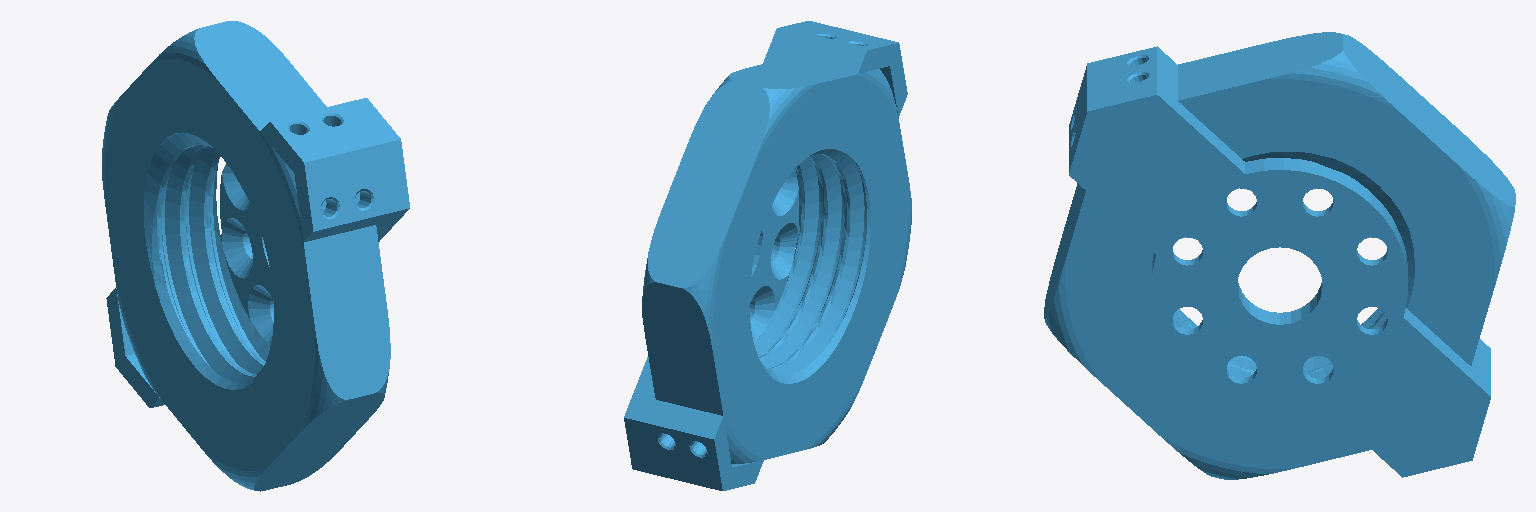
The robot description file, URDF, robot "panda_hebi":
<?xml version="1.0" encoding="utf-8" ?>
<robot name="panda_hebi">
	<!-- Panda link 0 -->
	<link name="panda_link0">
		<visual>
			<geometry>
				<mesh filename="franka/Franka_Link0_assy OBJ/Franka_Link0_assy.obj" />
			</geometry>
		</visual>
		<inertial>
			<origin rpy="0 0 0" xyz="0 0 0" />
			<mass value="2.9411" />
			<inertia ixx="0.00315" ixy="0.0" ixz="0.0" iyy="0.00388" iyz="0.0" izz="0.004285" />
		</inertial>
	</link>
	<!-- Joint 1 from link 0 to 1 -->
	<joint name="panda_joint1" type="revolute">
		<origin rpy="0 0 0" xyz="0 0 0.333" />
		<parent link="panda_link0" />
		<child link="panda_link1" />
		<axis xyz="0 0 1" />
		<limit effort="87" lower="-2.8973" upper="2.8973" velocity="2.1750" />
		<dynamics damping="1.0" />
	</joint>
	<!-- Panda link 1 -->
	<link name="panda_link1">
		<visual>
			<geometry>
				<mesh filename="franka/Franka_Link1_assy OBJ/Franka_Link1_assy.obj" />
			</geometry>
		</visual>
		<inertial>
			<origin rpy="0 0 0" xyz="0.003875 0.002081 -0.04762" />
			<mass value="4.970684" />
			<inertia ixx="0.70337" ixy="0" ixz="0" iyy="0.70661" iyz="0" izz="0.0091170" />
		</inertial>
	</link>
	<!-- Joint 2 from link 1 to 2 -->
	<joint name="panda_joint2" type="revolute">
		<origin rpy="-1.57079632679 0 0" xyz="0 0 0" />
		<parent link="panda_link1" />
		<child link="panda_link2" />
		<axis xyz="0 0 1" />
		<limit effort="87" lower="-1.7628" upper="1.7628" velocity="2.1750" />
		<dynamics damping="1.0" />
	</joint>
	<!-- Panda link 2 -->
	<link name="panda_link2">
		<visual>
			<geometry>
				<mesh filename="franka/Franka_Link2_assy OBJ/Franka_Link2_assy.obj" />
				<!--<mesh filename="assets/panda/link2.stl" />-->
			</geometry>
		</visual>
		<inertial>
			<origin rpy="0 0 0" xyz="-0.003141 -0.02872 0.003495" />
			<mass value="0.646926" />
			<inertia ixx="0.0079620" ixy="0.0" ixz="0.0" iyy="0.02811" iyz="0.0" izz="0.025995" />
		</inertial>
	</link>
	<!-- Joint 3 from link 2 to 3 -->
	<joint name="panda_joint3" type="revolute">
		<origin rpy="1.57079632679 0 0" xyz="0 -0.316 0" />
		<parent link="panda_link2" />
		<child link="panda_link3" />
		<axis xyz="0 0 1" />
		<limit effort="87" lower="-2.8973" upper="2.8973" velocity="2.1750" />
		<dynamics damping="1.0" />
	</joint>
	<!-- Panda link 3 -->
	<link name="panda_link3">
		<visual>
			<geometry>
				<mesh filename="franka/Franka_Link3_assy OBJ/Franka_Link3_assy.obj" />
				<!--<mesh filename="assets/panda/link3.stl" />-->
			</geometry>
		</visual>
		<inertial>
			<origin rpy="0 0 0" xyz="2.7518e-2 3.9252e-2 -6.6502e-2" />
			<mass value="3.228604" />
			<inertia ixx="0.037242" ixy="0.0" ixz="0.0" iyy="0.036155" iyz="0.0" izz="0.01083" />
		</inertial>
	</link>
	<!-- Joint 4 from link 3 to 4 -->
	<joint name="panda_joint4" type="revolute">
		<origin rpy="1.57079632679 0 0" xyz="0.0825 0 0" />
		<parent link="panda_link3" />
		<child link="panda_link4" />
		<axis xyz="0 0 1" />
		<limit effort="87" lower="-3.0718" upper="-0.0698" velocity="2.1750" />
		<dynamics damping="1.0" />
	</joint>
	<!-- Panda link 4 -->
	<link name="panda_link4">
		<visual>
			<geometry>
				<mesh filename="franka/Franka_Link4_assy OBJ/Franka_Link4_assy.obj" />
				<!--<mesh filename="assets/panda/link4.stl" />-->
			</geometry>
		</visual>
		<inertial>
			<origin rpy="0 0 0" xyz="-5.317e-2 1.04419e-1 2.7454e-2" />
			<mass value="3.587895" />
			<inertia ixx="2.5853e-2" ixy="0.0" ixz="0.0" iyy="1.9552e-2" iyz="0.0" izz="8.627e-3" />
		</inertial>
	</link>
	<!-- Joint 5 from link 4 to 5 -->
	<joint name="panda_joint5" type="revolute">
		<origin rpy="-1.57079632679 0 0" xyz="-0.0825 0.384 0" />
		<parent link="panda_link4" />
		<child link="panda_link5" />
		<axis xyz="0 0 1" />
		<limit effort="12" lower="-2.8973" upper="2.8973" velocity="2.6100" />
		<dynamics damping="1.0" />
	</joint>
	<!-- Panda link 5 -->
	<link name="panda_link5">
		<visual>
			<geometry>
				<mesh filename="franka/Franka_Link5_assy OBJ/Franka_Link5_assy.obj" />
				<!--<mesh filename="assets/panda/link5.stl" />-->
			</geometry>
		</visual>
		<inertial>
			<origin rpy="0 0 0" xyz="-1.1953e-2 4.1065e-2 -3.8437e-2" />
			<mass value="1.225946" />
			<inertia ixx="3.5549e-2" ixy="0.0" ixz="0.0" iyy="2.9474e-2" iyz="0.0" izz="8.627e-3" />
		</inertial>
	</link>
	<!-- Joint 6 from link 5 to 6 -->
	<joint name="panda_joint6" type="revolute">
		<origin rpy="1.57079632679 0 0" xyz="0 0 0" />
		<parent link="panda_link5" />
		<child link="panda_link6" />
		<axis xyz="0 0 1" />
		<limit effort="12" lower="-0.0175" upper="3.7525" velocity="2.6100" />
		<dynamics damping="1.0" />
	</joint>
	<!-- Panda link 6 -->
	<link name="panda_link6">
		<visual>
			<geometry>
				<mesh filename="franka/Franka_Link6_assy OBJ/Franka_Link6_assy.obj" />
				<!--<mesh filename="assets/panda/link6.stl" />-->
			</geometry>
		</visual>
		<inertial>
			<origin rpy="0 0 0" xyz="6.0149e-2 -1.4117e-2 -1.0517e-2" />
			<mass value="1.666555" />
			<inertia ixx="1.964e-3" ixy="0.0" ixz="0.0" iyy="4.354e-3" iyz="0.0" izz="5.433e-3" />
		</inertial>
	</link>
	<!-- Joint 7 from link 6 to 7 -->
	<joint name="panda_joint7" type="revolute">
		<origin rpy="1.57079632679 0 0" xyz="0.088 0 0" />
		<parent link="panda_link6" />
		<child link="panda_link7" />
		<axis xyz="0 0 1" />
		<limit effort="12" lower="-2.8973" upper="2.8973" velocity="2.6100" />
		<dynamics damping="1.0" />
	</joint>
	<!-- Panda link 7 -->
	<link name="panda_link7">
		<visual>
			<origin rpy="0 0 0" xyz="0 0 0" />
			<geometry>
				<mesh filename="franka/Franka_Link7_assy OBJ/Franka_Link7_assy.obj" />
			</geometry>
		</visual>
		<inertial>
			<origin rpy="0 0 0" xyz="1.0517e-2 -4.252e-3 6.1597e-2" />
			<mass value="7.35522e-01" />
			<inertia ixx="1.2516e-2" ixy="0.0" ixz="0.0" iyy="1.0027e-2" iyz="0.0" izz="4.815e-3" />
		</inertial>
	</link>
	<!-- Fixed joint from link 7 to hand -->
	<joint name="panda_joint8" type="fixed">
		<origin rpy="0 0 0" xyz="0 0 0.107" />
		<parent link="panda_link7" />
		<child link="hebi" />
		<axis xyz="0 0 1" />
	</joint>
	<!--Hebi-->
	<link name="hebi">
		<visual>
			<origin rpy="0 0 0" xyz="0 0 0" />
			<geometry>
				<mesh filename="../hebi/Hebi_X_ATI_gamma.obj" />
			</geometry>
		</visual>
		<inertial>
			<origin rpy="0 0 0" xyz="-0.01 0 0.03" />
			<mass value="0.73"/>
			<inertia ixx="0.001" ixy="0.0" ixz="0.0" iyy="0.0025" iyz="0.0" izz="0.0017" />
		</inertial>
	</link>
	<!-- Revolute joint from Hebi to nut -->
	<joint name="panda_joint9" type="revolute">
		<origin rpy="0 0 -2.3562" xyz="0 0 0" />
		<parent link="hebi" />
		<child link="nut" />
		<axis xyz="0 0 1" />
	</joint>
	<!--Nut-->
	<link name="nut">
		<visual>
			<origin rpy="0 0 0" xyz="0 0 0.09615" />
			<geometry>
				<mesh filename="../boltnut/M48_P5_nut.obj" />
			</geometry>
		</visual>
		<collision>
			<origin rpy="0 0 0" xyz="0 0 0.09615" />
			<geometry>
				<mesh filename="../boltnut/M48_P5_nut.obj" />
			</geometry>
		</collision>
		<inertial>
			<origin rpy="0 0 0" xyz="0 0 0" />
			<mass value="0.383"/>
      		<inertia ixx="0.001915" ixy="0.0" ixz="0.0" iyy="0.0047875" iyz="0.0" izz="0.0032555" />
		</inertial>
	</link>
</robot>

--- Facts derived from the render (not from the file) ---
Views: 3 orthographic renders of the robot side by side, from view 1: azimuth 30°, elevation 25°; view 2: azimuth 150°, elevation 25°; view 3: azimuth 270°, elevation 25°.
Model panda_hebi with 10 links and 9 joints (8 revolute, 1 fixed), rooted at panda_link0, posed all joints at 0 but 1 set to mid-range because 0 is outside their limits (panda_joint4 = -1.57).
Visible links, largest first — view 1: nut; view 2: nut; view 3: nut.
Boxes of the visible links, left/top/right/bottom form: nut: left=102, top=21, right=409, bottom=491; nut: left=624, top=21, right=911, bottom=490; nut: left=1044, top=32, right=1515, bottom=479.
Size in the robot's own frame: 0.02 by 0.0825 by 0.0825 metres.
1 mesh visuals loaded from 10 distinct referenced files (1 OBJ); not drawn: 9 (reference not matched to a file when rendering).